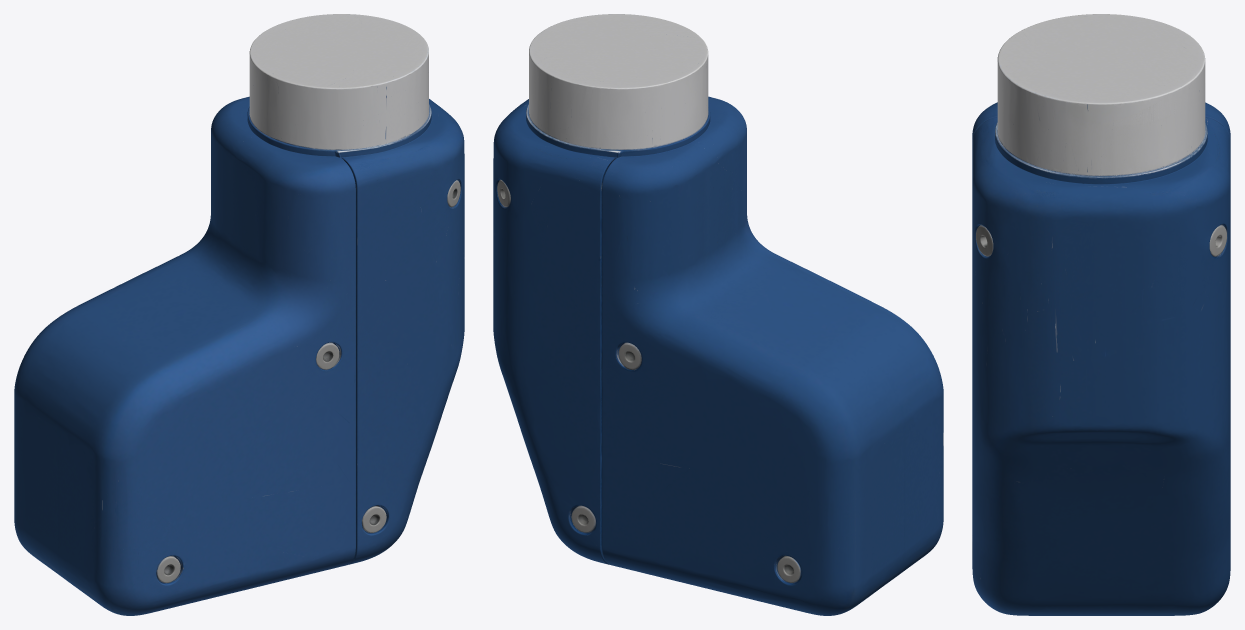
Rendered from Arm_Top.fbx.
3 renders of one model, left to right at view 1: azimuth 30°, elevation 25°; view 2: azimuth 150°, elevation 25°; view 3: azimuth 270°, elevation 25°, orthographic. The views are drawn at different scales.
Parts seen in each view (by area): view 1: Mesh_0; view 2: Mesh_0; view 3: Mesh_0.
Boxes of the visible parts, left/top/right/bottom form: Mesh_0: left=14, top=14, right=464, bottom=615; Mesh_0: left=493, top=14, right=943, bottom=615; Mesh_0: left=972, top=14, right=1230, bottom=615.
Bounding box in the file's own units: 160 × 190 × 79.45.
Materials: 1 (1 with a texture image).
